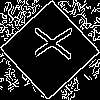X: (25, 25, 72, 61)
